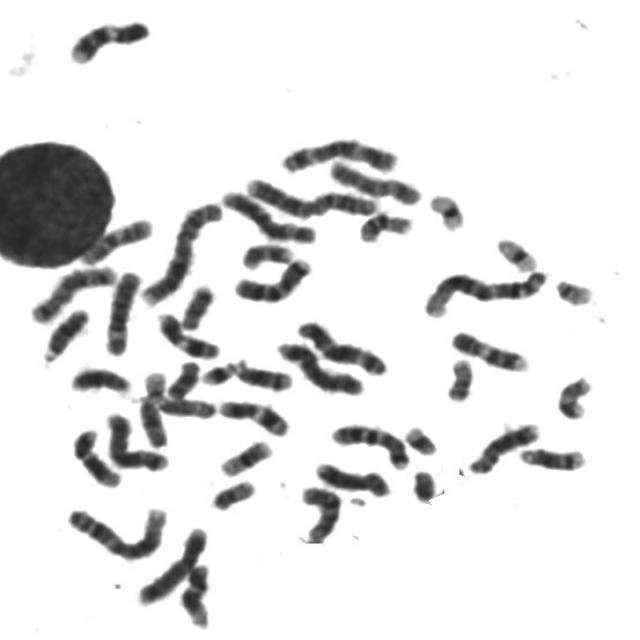A1: (415, 260, 551, 320), (59, 498, 170, 562)
A2: (134, 194, 226, 308), (238, 169, 384, 219)
A3: (289, 313, 390, 378), (272, 130, 402, 175)
B4: (130, 518, 210, 606), (268, 334, 367, 397)
B5: (22, 256, 119, 325), (97, 405, 171, 473)
C10: (73, 210, 155, 266), (293, 478, 345, 545)
C11: (148, 305, 224, 361), (210, 392, 292, 438)
C12: (65, 421, 124, 490), (172, 556, 215, 630)
C6: (216, 182, 320, 245), (97, 262, 145, 357)
C7: (323, 416, 412, 471), (226, 250, 314, 305)
C8: (461, 415, 544, 476), (308, 455, 393, 498)
C9: (61, 11, 153, 66), (443, 322, 531, 373)
D13: (35, 301, 91, 365), (62, 359, 134, 397)
D14: (227, 353, 295, 393), (512, 439, 590, 473)
D15: (132, 390, 170, 449), (153, 396, 219, 422)
E16: (212, 433, 275, 478), (350, 204, 416, 244)
E17: (550, 368, 595, 421), (235, 235, 296, 271)
E18: (174, 278, 216, 332), (160, 352, 202, 402)
F19: (488, 229, 540, 274), (421, 185, 468, 232)
F20: (204, 472, 258, 512), (438, 351, 476, 404)
G21: (397, 418, 441, 457), (193, 353, 242, 387)
G22: (548, 271, 598, 307), (136, 364, 168, 403)
X: (322, 152, 424, 206)
Y: (402, 468, 446, 506)
